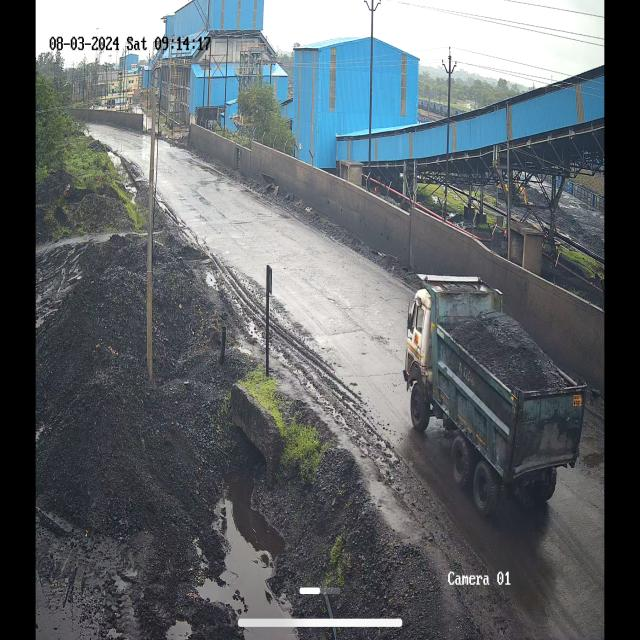dump_truck: (386, 258, 588, 520)
